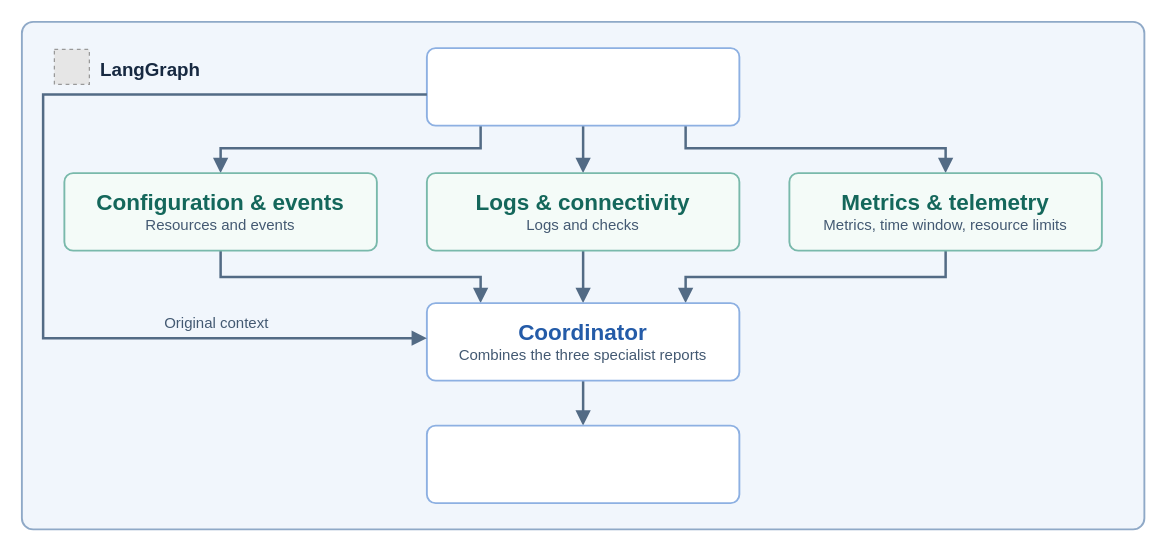
Image size: 1168x553. Some labels were removed from this diagram. Grey dashed boxes stand in for pictures. The box of each missing label's shape, as (x1, y1, x2, y2) in pixels:
Final RCA report Validated structured output: (425, 424, 740, 504)
Incident snapshot Sanitized Kubernetes evidence: (425, 47, 740, 126)
